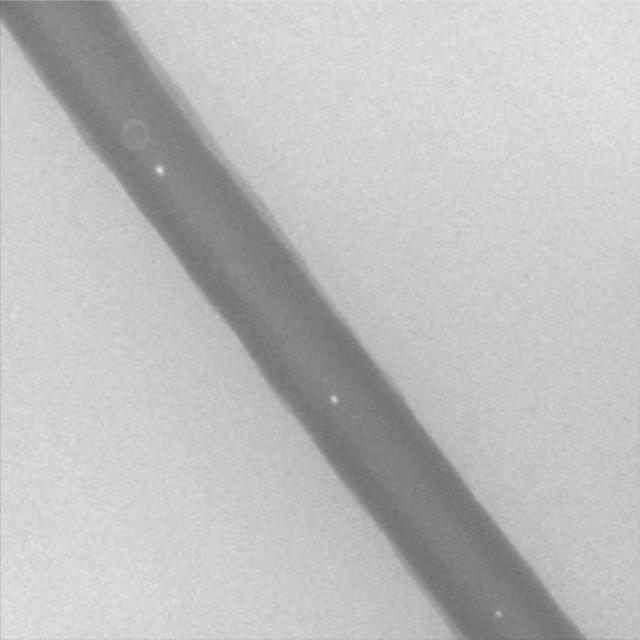air hole: (328, 392, 339, 406), (154, 162, 164, 176), (493, 606, 504, 618)
hollow bead: (120, 119, 150, 154)
